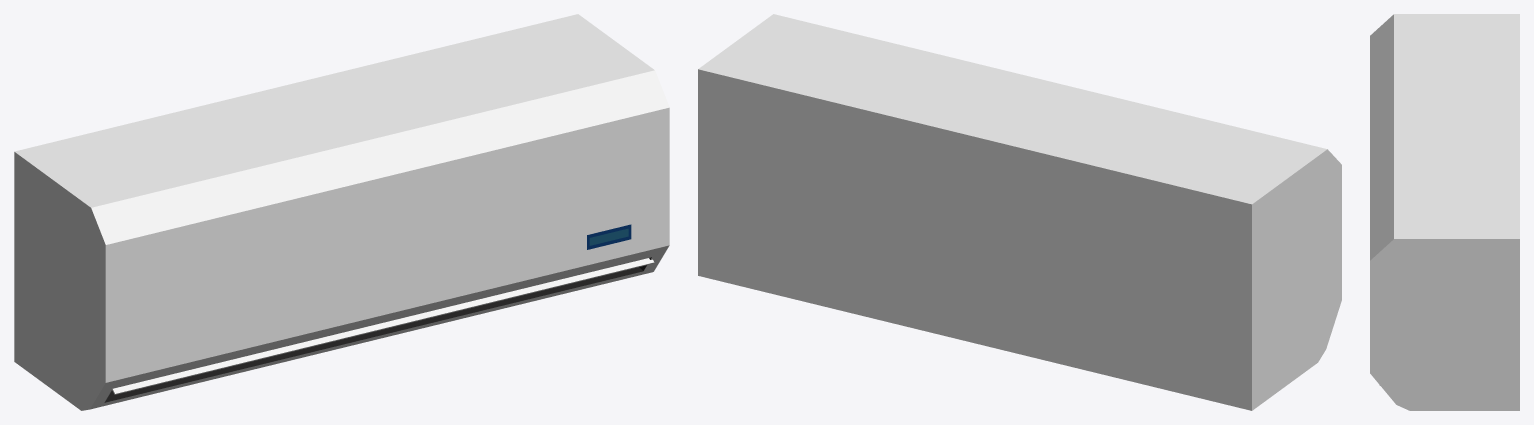
Rendered from AirConditioner.fbx.
3 views of the same model, side by side, from view 1: azimuth 30°, elevation 25°; view 2: azimuth 150°, elevation 25°; view 3: azimuth 270°, elevation 25° (orthographic). The views are drawn at different scales.
Visible parts, largest first — view 1: AirConditioner; view 2: AirConditioner; view 3: AirConditioner.
Part boxes in pixels (x1,y1,x2,y2): AirConditioner: (14, 14, 669, 410); AirConditioner: (698, 14, 1341, 410); AirConditioner: (1370, 14, 1519, 410).
Bounding box in the file's own units: 123 × 43.65 × 34.45.
